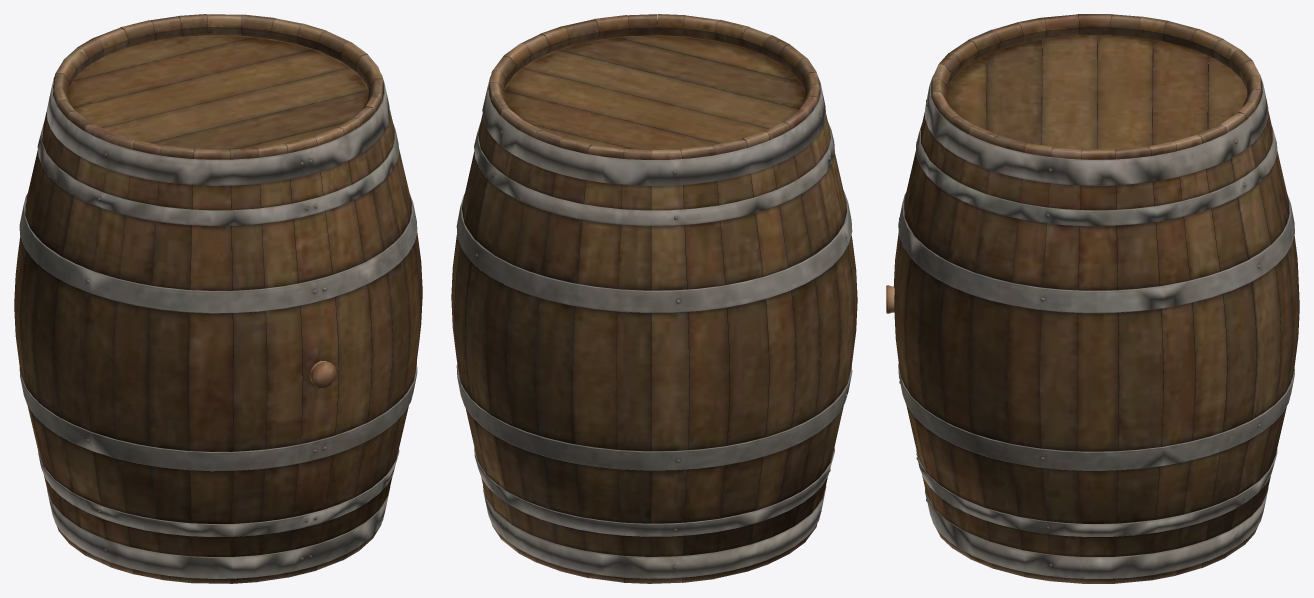
File: wine_barrel_01.glb
The picture shows the model from 3 angles, left to right: view 1: azimuth 30°, elevation 25°; view 2: azimuth 150°, elevation 25°; view 3: azimuth 270°, elevation 25°; orthographic projection.
Visible parts, largest first — view 1: wine_barrel_01_Lid; view 2: wine_barrel_01_Lid; view 3: wine_barrel_01_Lid.
Boxes of the visible parts, x1,y1,x2,y2 form: wine_barrel_01_Lid: (14, 14, 422, 583); wine_barrel_01_Lid: (451, 14, 857, 583); wine_barrel_01_Lid: (886, 14, 1299, 583).
Bounding box in the file's own units: 0.7419 × 0.8713 × 0.7554.
Materials: 1 (1 with a texture image).
